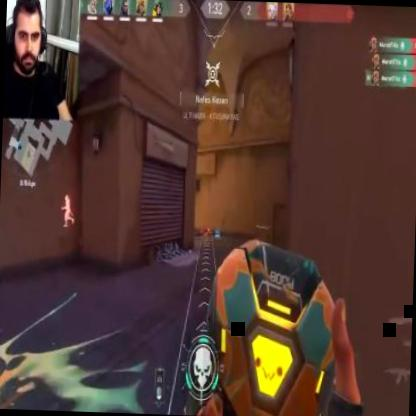enemy: (62, 192, 76, 228)
enemy_head: (64, 194, 68, 201)
